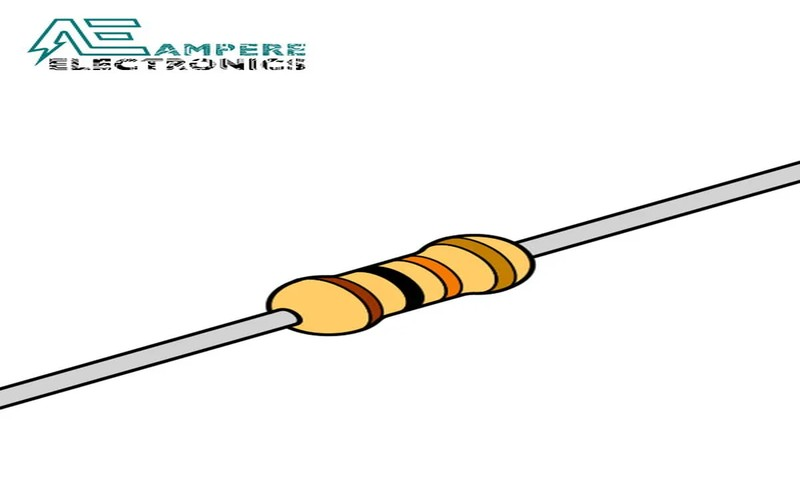Resistor: (225, 213, 564, 358)
